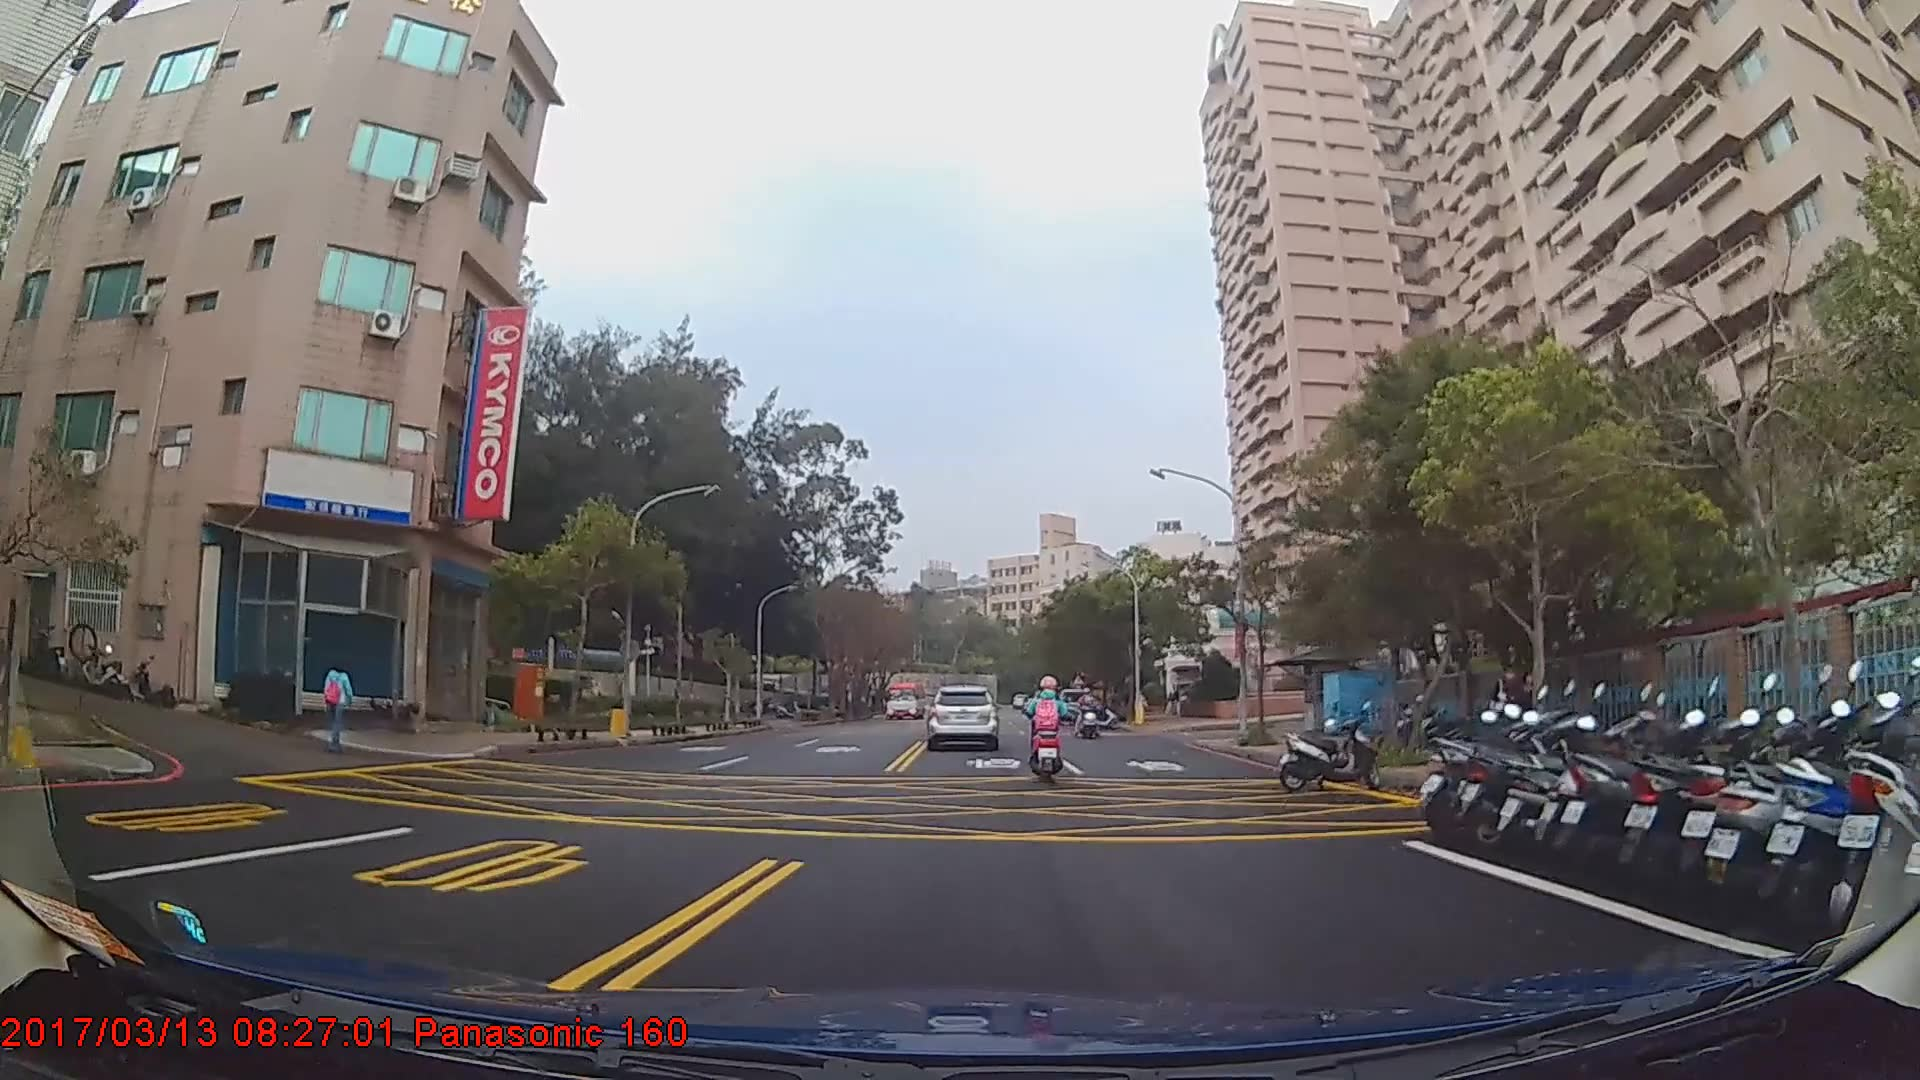pedestrian: (1484, 659, 1523, 753), (324, 653, 356, 752)
rider: (1025, 667, 1071, 779), (1074, 687, 1101, 739)
vehicle: (925, 681, 998, 746), (882, 680, 926, 720)
